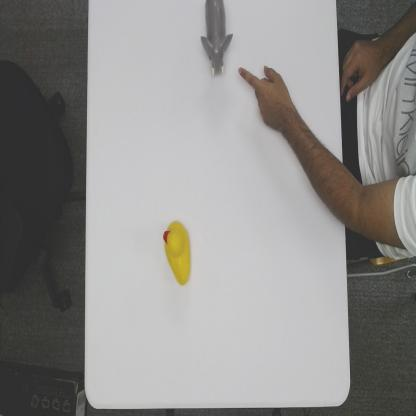Arm: (288, 116, 342, 216)
Duck: (161, 217, 193, 286)
Elephant: (201, 2, 233, 79)
Hand: (237, 63, 289, 131)
